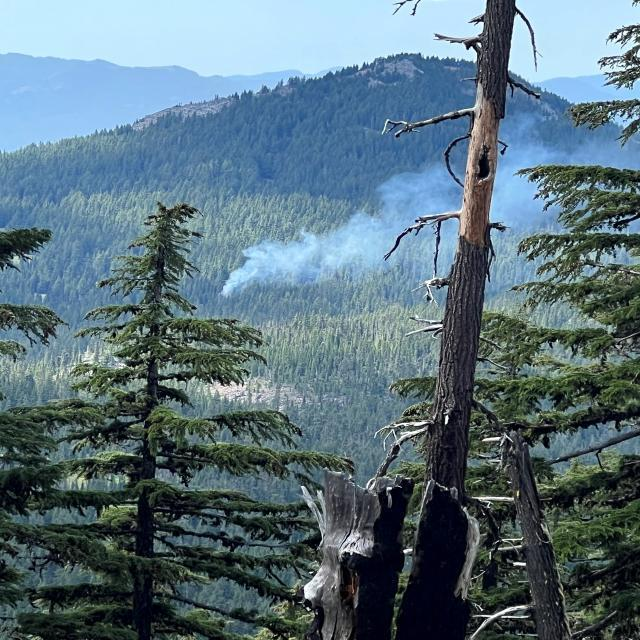Smoke: (219, 130, 635, 302)
